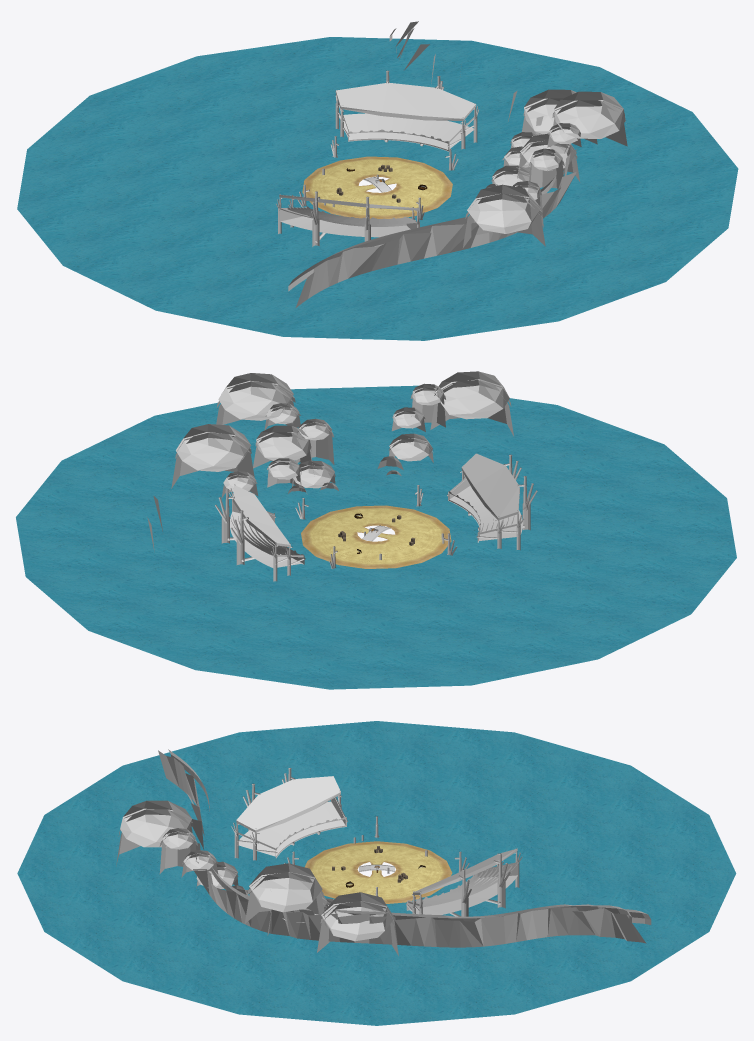
The model's file is arena.glb.
The picture shows the model from 3 angles, top to bottom: view 1: azimuth 30°, elevation 25°; view 2: azimuth 150°, elevation 25°; view 3: azimuth 270°, elevation 25°; orthographic projection.
Parts seen in each view (by area): view 1: mesh_6, mesh_8, mesh_7, mesh_5, mesh_1, mesh_10, mesh_14, mesh_15, mesh_12, mesh_13, mesh_21; view 2: mesh_6, mesh_7, mesh_5, mesh_8, mesh_10, mesh_1, mesh_15, mesh_12; view 3: mesh_6, mesh_8, mesh_7, mesh_5, mesh_1, mesh_10, mesh_14, mesh_15, mesh_12, mesh_13, mesh_21.
Part boxes in pixels (x1,y1,x2,y2): mesh_6: (17, 37, 738, 340); mesh_8: (295, 21, 627, 308); mesh_7: (327, 89, 625, 257); mesh_5: (302, 156, 452, 218); mesh_1: (279, 103, 474, 237); mesh_10: (286, 82, 475, 197); mesh_14: (288, 28, 626, 291); mesh_15: (276, 71, 478, 230); mesh_12: (277, 70, 479, 246); mesh_13: (279, 90, 476, 210); mesh_21: (287, 207, 415, 223); mesh_6: (16, 385, 736, 689); mesh_7: (176, 371, 509, 491); mesh_5: (301, 505, 451, 568); mesh_8: (147, 380, 513, 551); mesh_10: (233, 453, 519, 544); mesh_1: (230, 477, 522, 567); mesh_15: (215, 455, 537, 568); mesh_12: (215, 454, 537, 581); mesh_6: (17, 721, 736, 1025); mesh_8: (116, 750, 646, 955); mesh_7: (120, 800, 647, 941); mesh_5: (305, 841, 452, 903); mesh_1: (238, 797, 518, 914); mesh_10: (236, 776, 515, 892); mesh_14: (118, 749, 651, 925); mesh_15: (231, 768, 522, 908); mesh_12: (233, 768, 520, 916); mesh_13: (236, 792, 517, 894); mesh_21: (411, 865, 512, 907).
Bounding box in the file's own units: 755 × 151 × 755.
5 materials, 5 textured.
